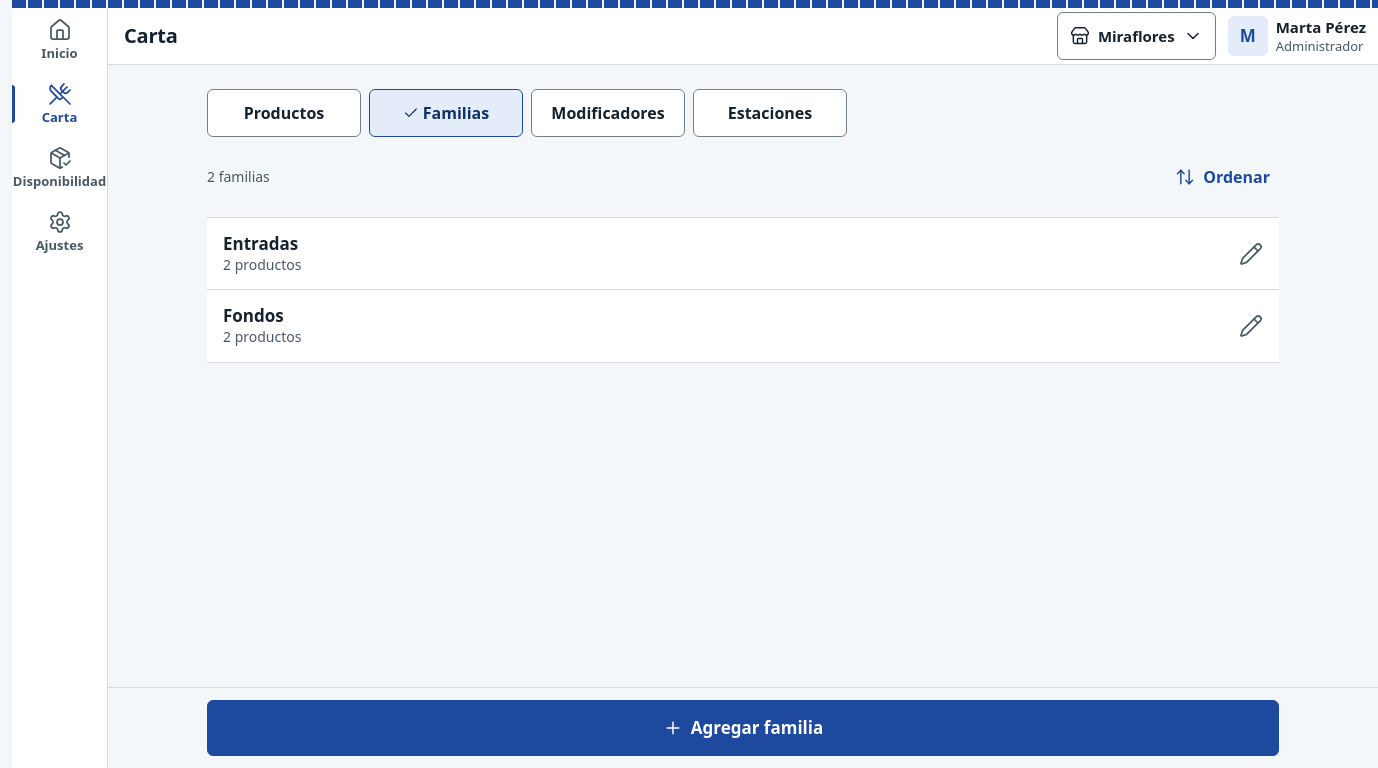
Test: secciones: familias y estaciones › un nombre repetido se dice en el campo y lo escrito se conserva
(page scrolled)
Expected: the list named "Familias" is shown, left=207, top=217, right=1279, bottom=363
Click the button "Agregar familia".
click(743, 728)  # box left=207, top=700, right=1279, bottom=756
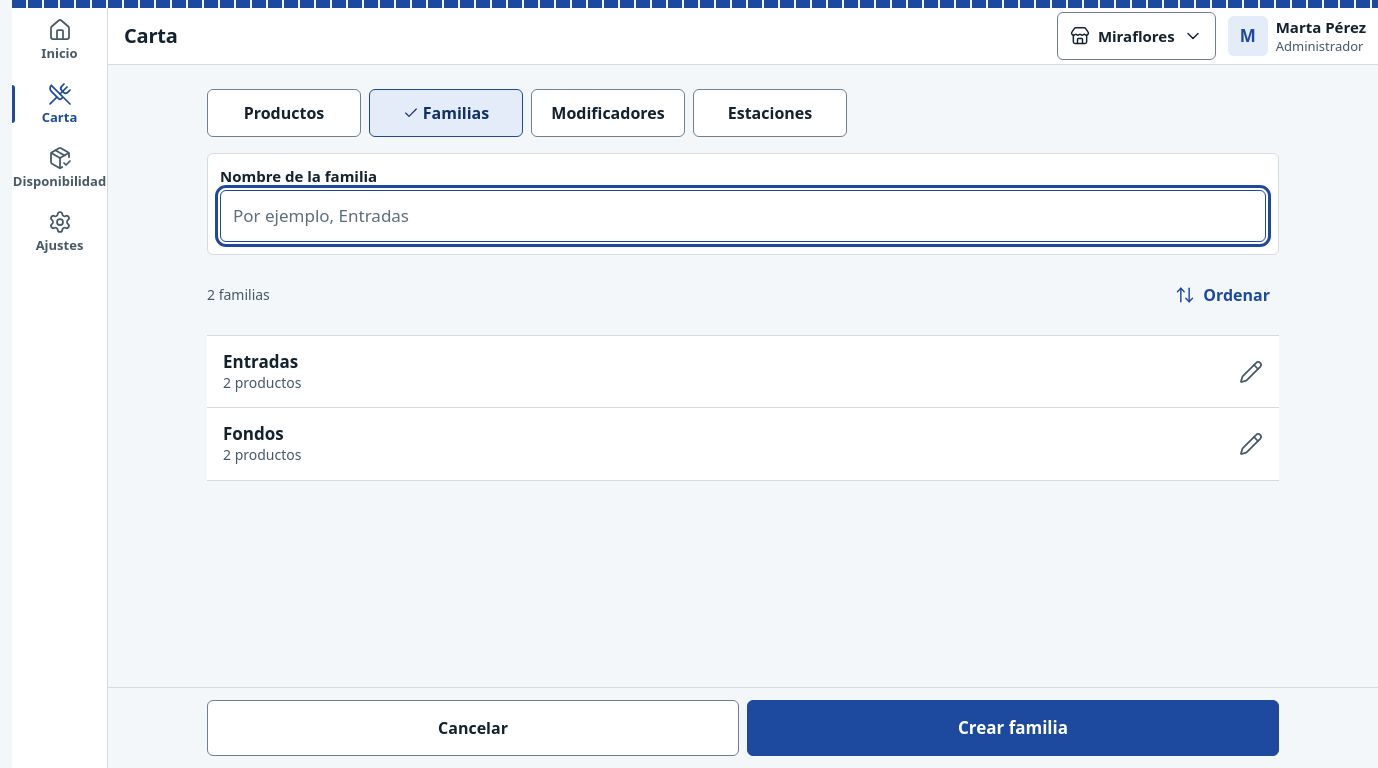
Type "Entradas" into the field labelled "Nombre de la familia".
click(743, 216); type("Entradas")  # box left=221, top=192, right=1265, bottom=240
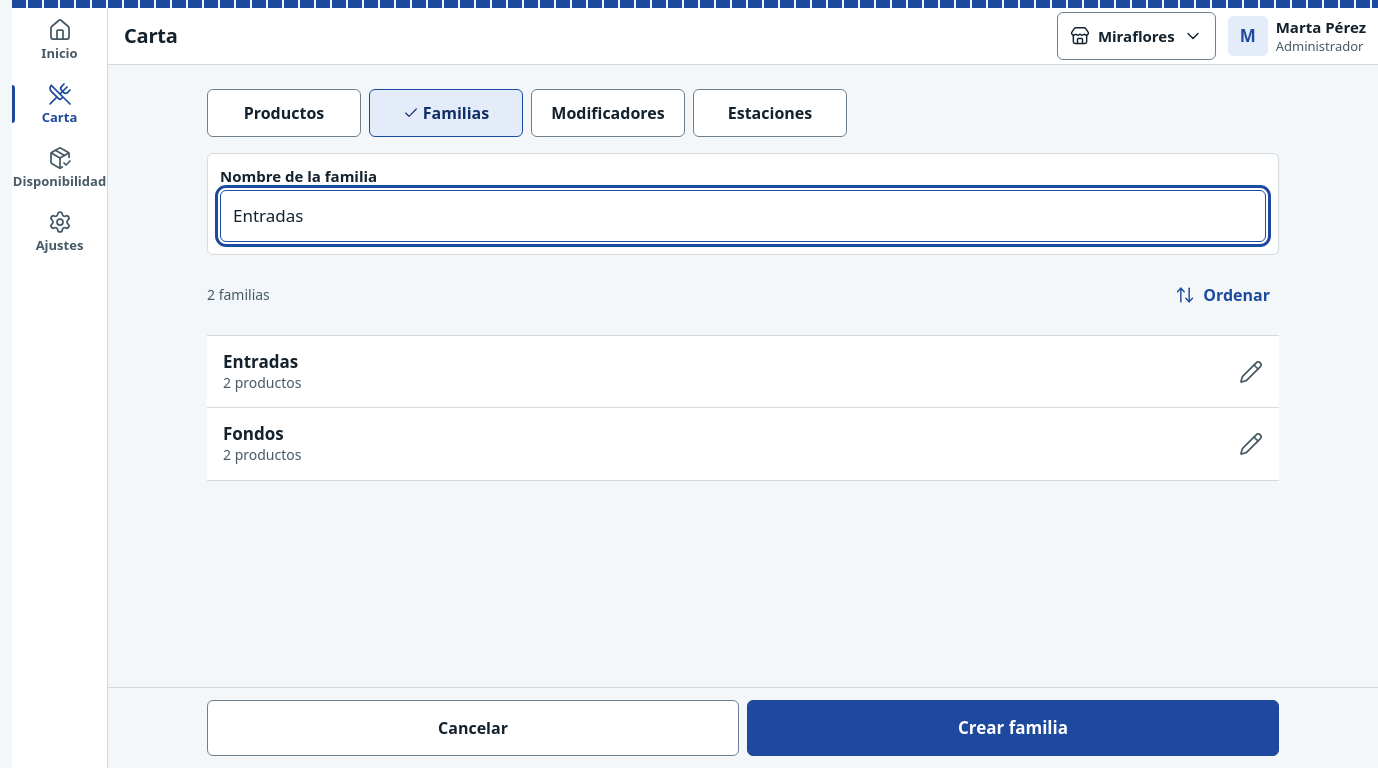
Click the button "Crear familia".
click(1013, 728)  # box left=747, top=700, right=1279, bottom=756
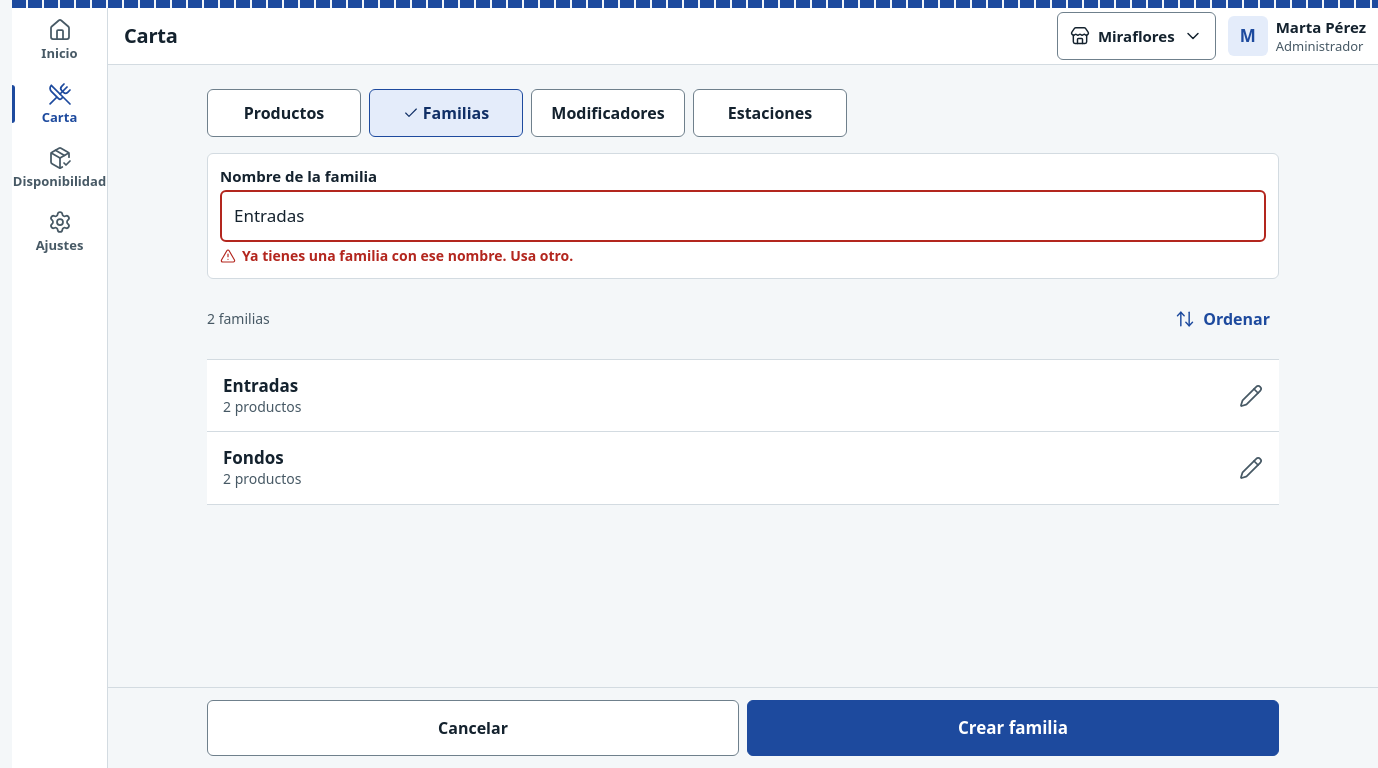
Result: the text "Ya tienes una familia con ese nombre. Usa otro." is shown at left=242, top=246, right=573, bottom=266
